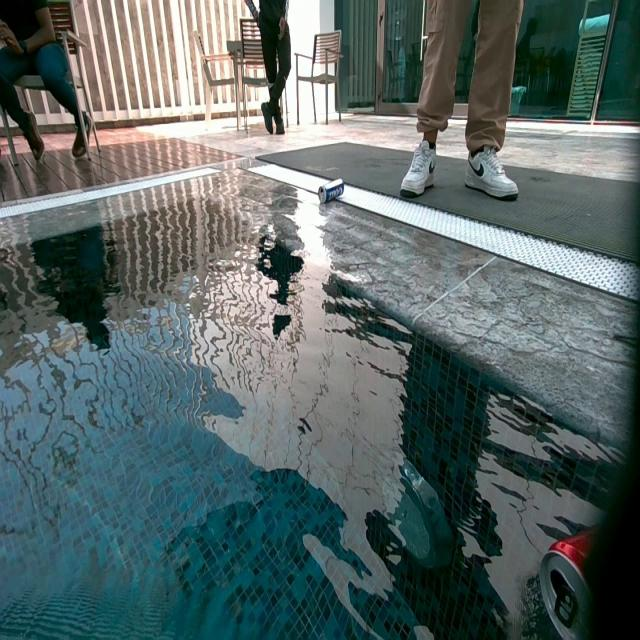Cans: (540, 534, 598, 638), (316, 178, 346, 204)
